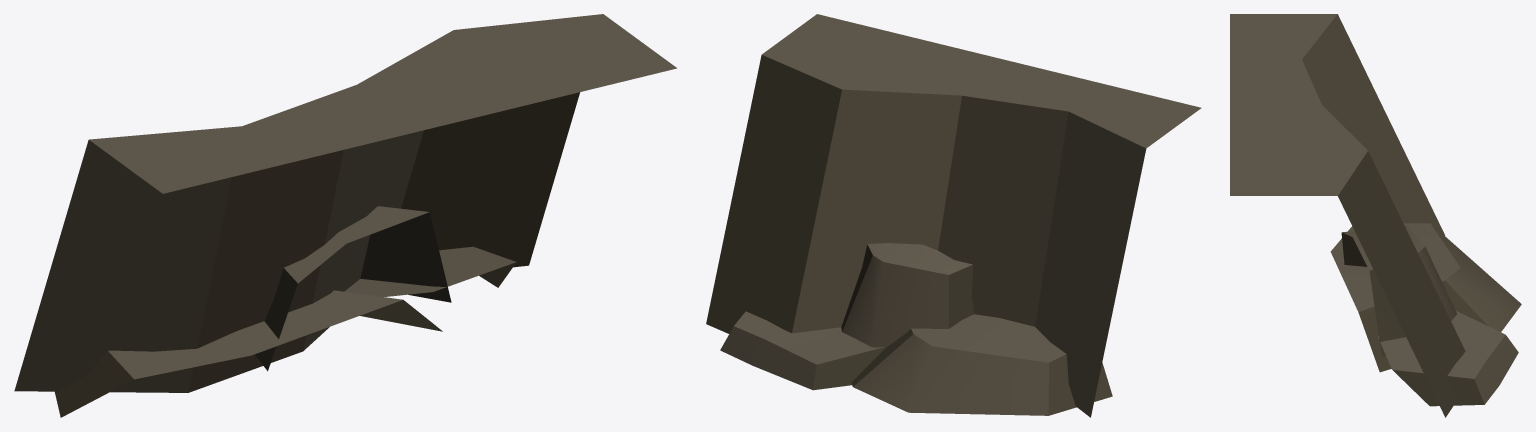
File: SF_Env_RockEdge_Straight_06.fbx
3 renders of one model, left to right at view 1: azimuth 30°, elevation 25°; view 2: azimuth 150°, elevation 25°; view 3: azimuth 270°, elevation 25°, orthographic. The views are drawn at different scales.
Visible parts, largest first — view 1: SF_Env_RockEdge_Straight_06; view 2: SF_Env_RockEdge_Straight_06; view 3: SF_Env_RockEdge_Straight_06.
Part boxes in pixels (bbox=[...]): SF_Env_RockEdge_Straight_06: bbox=[14, 14, 676, 417]; SF_Env_RockEdge_Straight_06: bbox=[706, 14, 1201, 417]; SF_Env_RockEdge_Straight_06: bbox=[1230, 14, 1521, 417].
Size of the model in its own units: 10 by 5.76 by 6.77.
